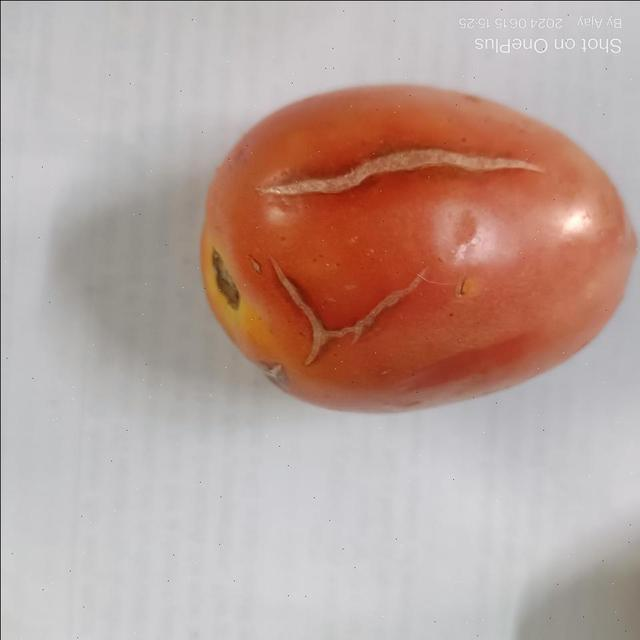Cracking Fruit: (164, 117, 205, 255)
